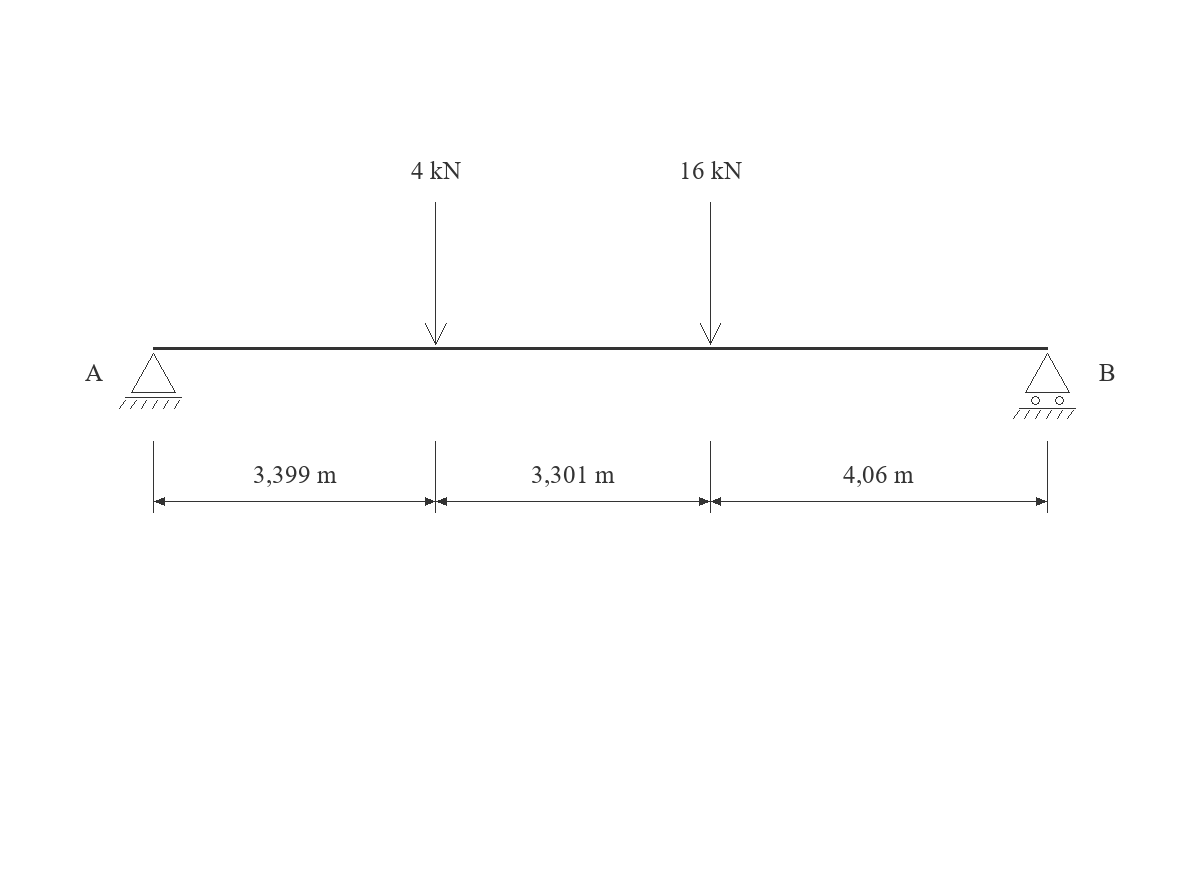pin_support: (119, 353, 182, 409)
point_load: (425, 202, 447, 345), (700, 202, 721, 345)
roller_support: (1013, 353, 1076, 419)
